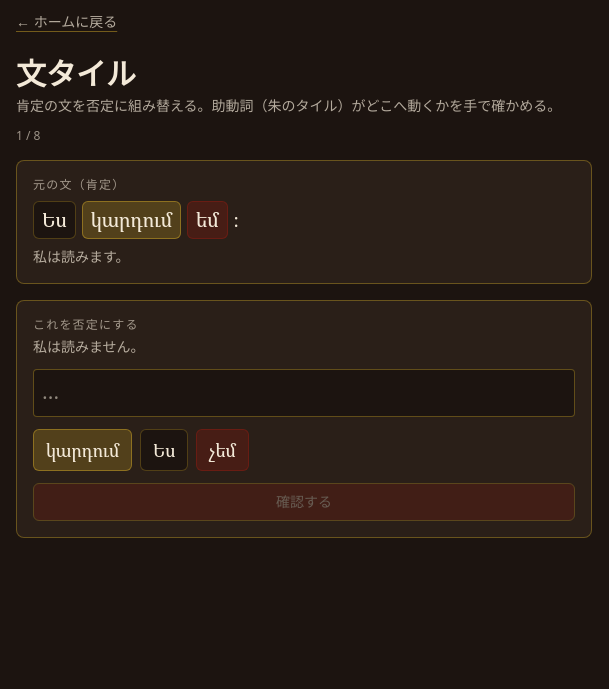
Scenario: SentenceTiles › moves to the next sentence and keeps the tiles unsolved
Click the button "Ես": (164, 450) [140, 429, 188, 471]
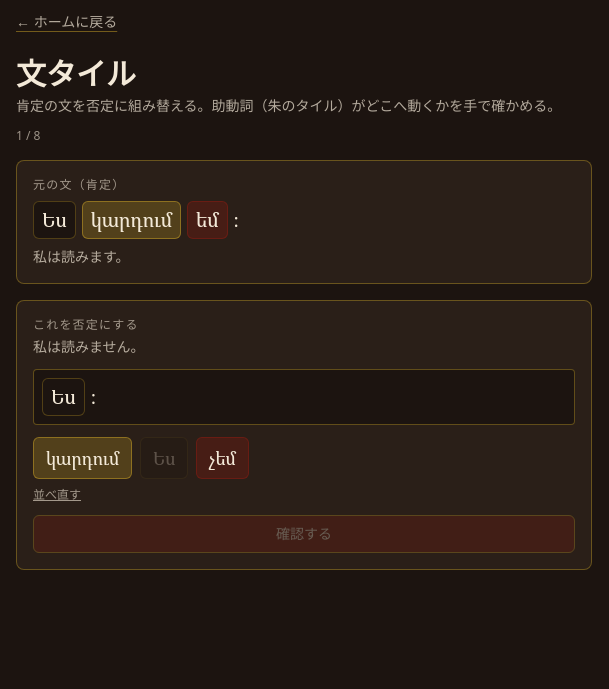
Click the button "չեմ": (223, 458) [196, 437, 249, 479]
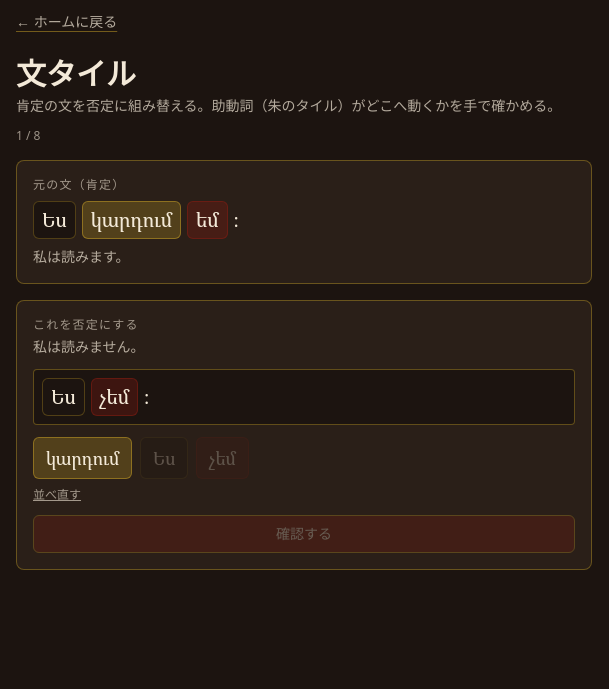
Click the button "կարդում": (83, 458) [33, 437, 132, 479]
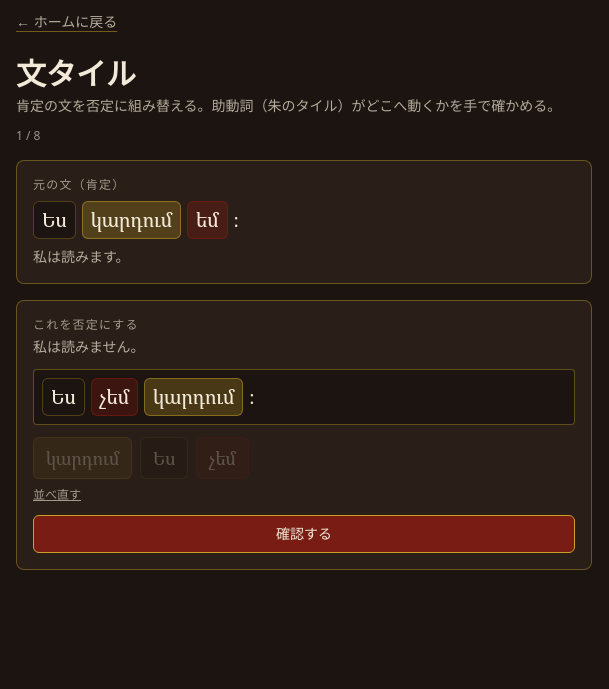
Click the button "確認する": (304, 534) [33, 515, 575, 553]
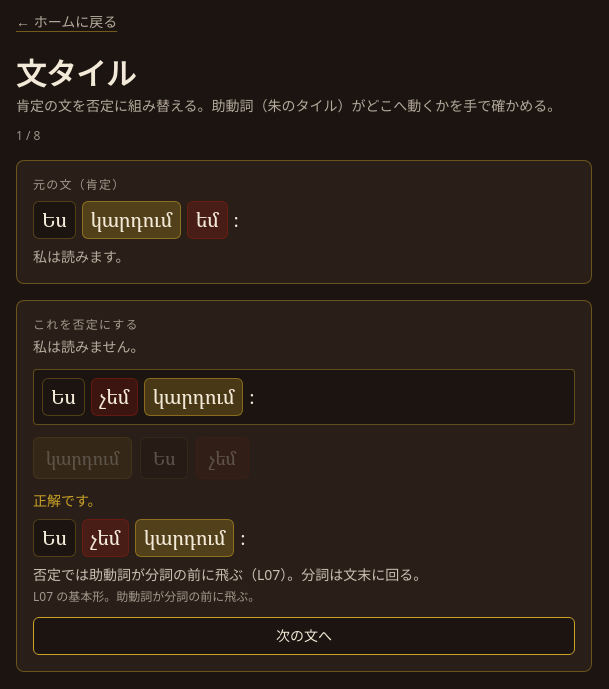
Click the button "次の文へ": (304, 636) [33, 617, 575, 655]
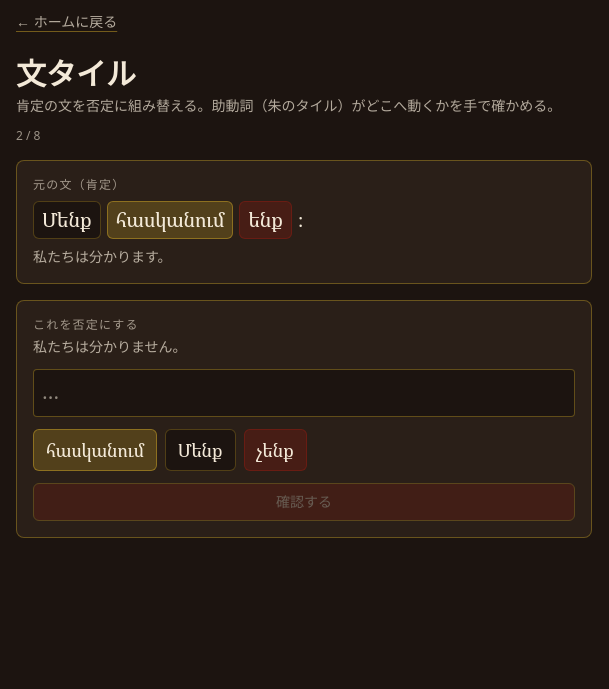
Check: the button "確認する" is disabled, box [33, 483, 575, 521]
